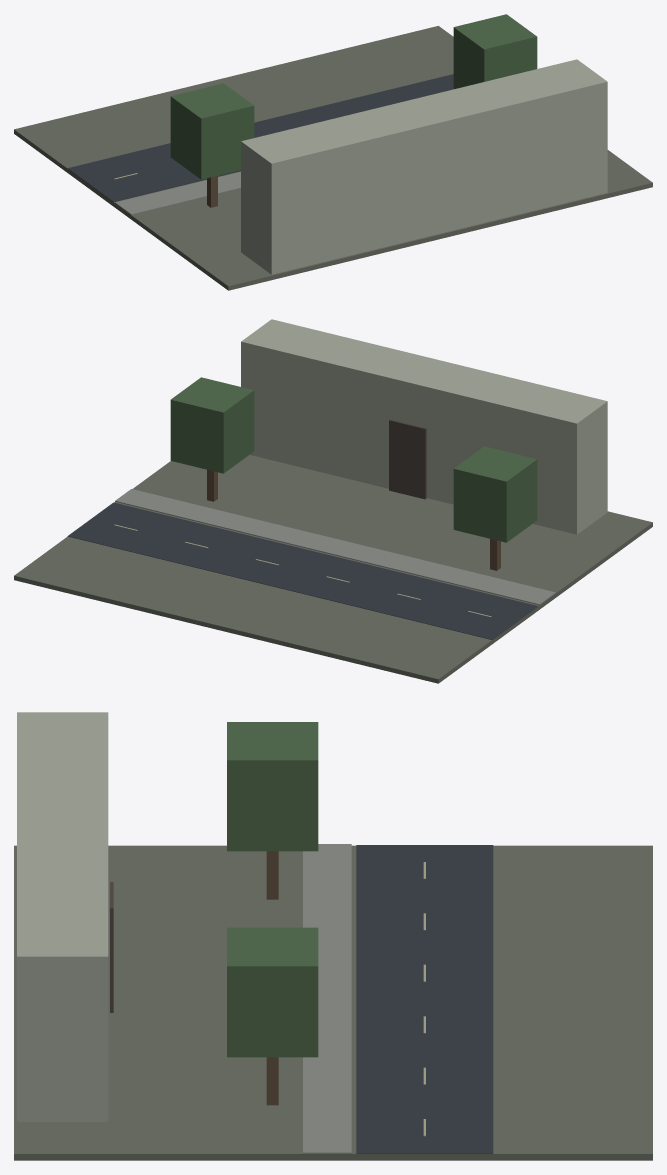
Rendered from exteriorBiblioteca.obj.
The picture shows the model from 3 angles, top to bottom: view 1: azimuth 30°, elevation 25°; view 2: azimuth 150°, elevation 25°; view 3: azimuth 270°, elevation 25°; orthographic projection. The views are drawn at different scales.
Parts seen in each view (by area): view 1: Fachada_de_la_biblioteca, Suelo, Copa_del_árbol, Calle, Acera; view 2: Suelo, Fachada_de_la_biblioteca, Calle, Copa_del_árbol, Acera, Puerta_BIBLIOTECA, Tronco; view 3: Suelo, Calle, Fachada_de_la_biblioteca, Copa_del_árbol, Acera, Tronco.
Boxes of the visible parts, box(x1,y1,x2,y2) form: Fachada_de_la_biblioteca: box(241, 59, 607, 274); Suelo: box(14, 26, 652, 290); Copa_del_árbol: box(170, 14, 537, 179); Calle: box(67, 74, 454, 202); Acera: box(115, 172, 240, 215); Suelo: box(14, 455, 652, 683); Fachada_de_la_biblioteca: box(241, 319, 607, 534); Calle: box(67, 502, 537, 639); Copa_del_árbol: box(170, 377, 537, 542); Acera: box(115, 489, 555, 605); Puerta_BIBLIOTECA: box(389, 419, 426, 499); Tronco: box(207, 469, 500, 570); Suelo: box(14, 845, 652, 1160); Calle: box(356, 845, 493, 1153); Fachada_de_la_biblioteca: box(17, 712, 108, 1121); Copa_del_árbol: box(227, 722, 318, 1057); Acera: box(303, 844, 351, 1153); Tronco: box(266, 851, 278, 1105).
Bounding box in the file's own units: 24 × 6.24 × 21.
